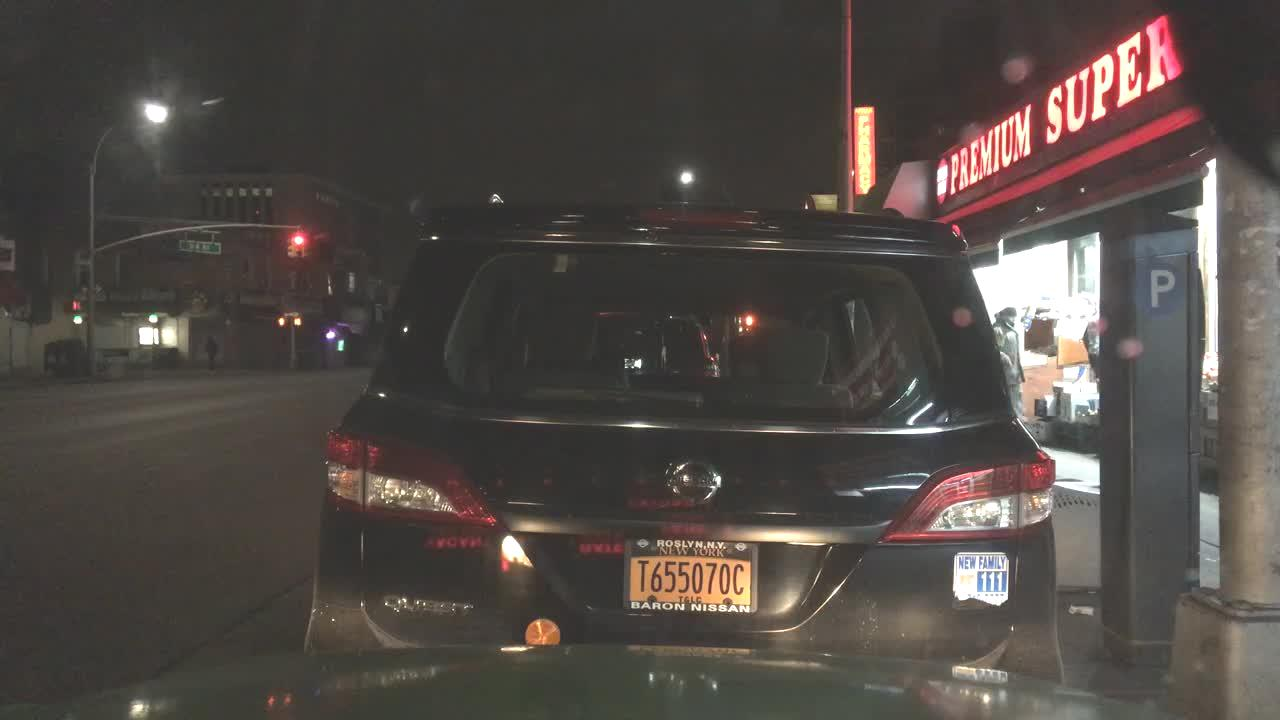Nissan: (659, 454, 725, 509)
